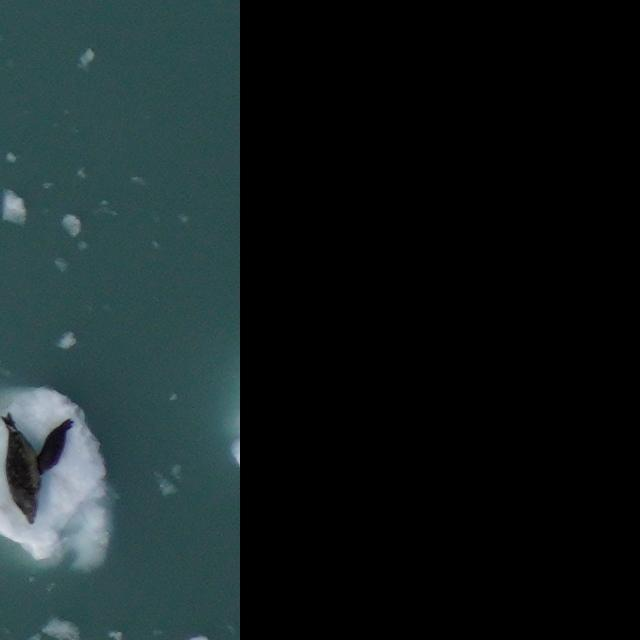seal: (0, 409, 44, 528), (32, 416, 78, 476)
